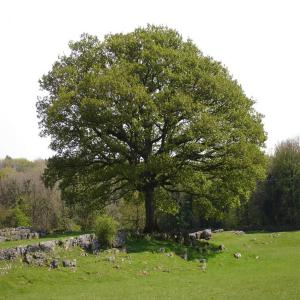Tree: (35, 20, 270, 238)
